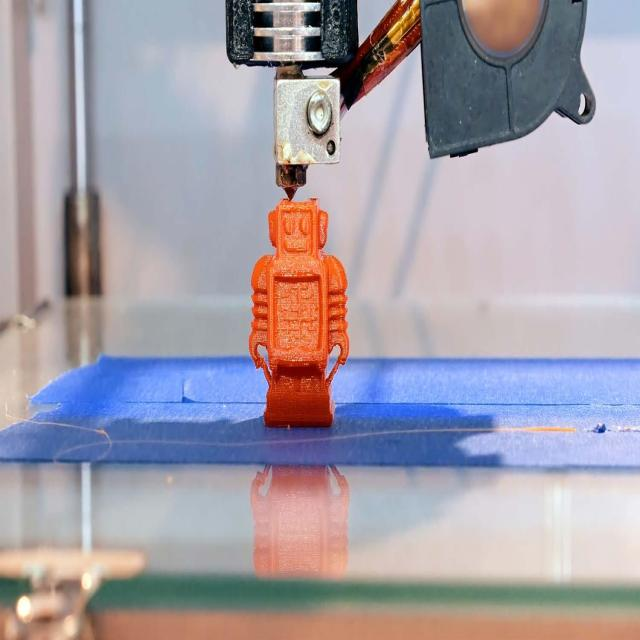Without deffect: (230, 195, 355, 432)
